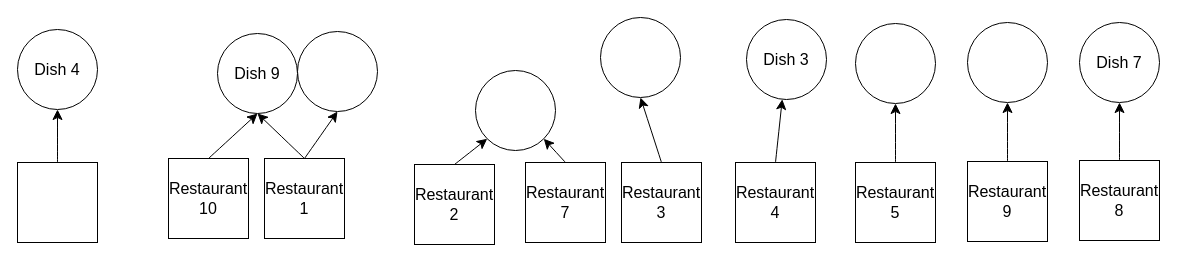
Image size: 1177x262. Some labels were removed from this diagram. Each missing label, with the centre of its shape:
"Dish 1" belongs at pixel 895 63.
"Dish 2" belongs at pixel 515 110.
"Dish 5" belongs at pixel 640 57.
"Dish 6" belongs at pixel 337 71.
"Dish 8" belongs at pixel 1007 62.
"Restaurant 6" belongs at pixel 57 202.
